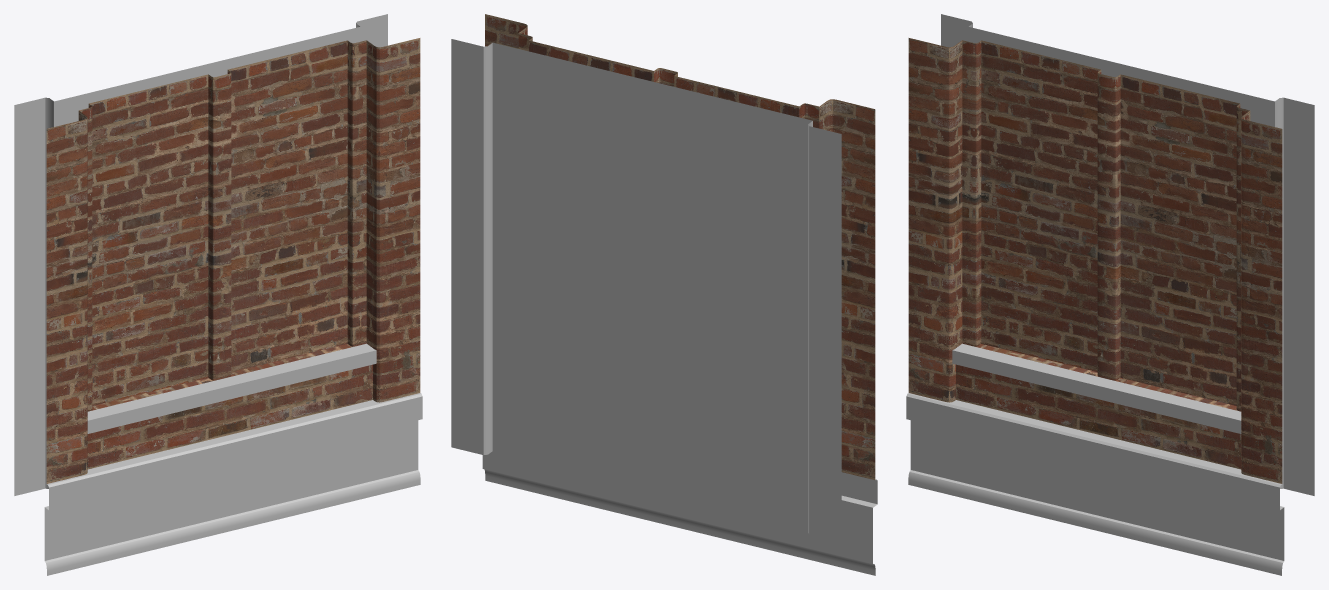
Rendered from SM_Wall_A_DualInterior.fbx.
The picture shows the model from 3 angles, left to right: view 1: azimuth 30°, elevation 25°; view 2: azimuth 150°, elevation 25°; view 3: azimuth 330°, elevation 25°; orthographic projection. The views are drawn at different scales.
Visible parts, largest first — view 1: SM_Wall_A_DualInterior; view 2: SM_Wall_A_DualInterior; view 3: SM_Wall_A_DualInterior.
Boxes of the visible parts, bbox=[...] form: SM_Wall_A_DualInterior: bbox=[14, 14, 422, 575]; SM_Wall_A_DualInterior: bbox=[451, 14, 877, 575]; SM_Wall_A_DualInterior: bbox=[906, 14, 1314, 575].
Size of the model in its own units: 700 by 112 by 800.
